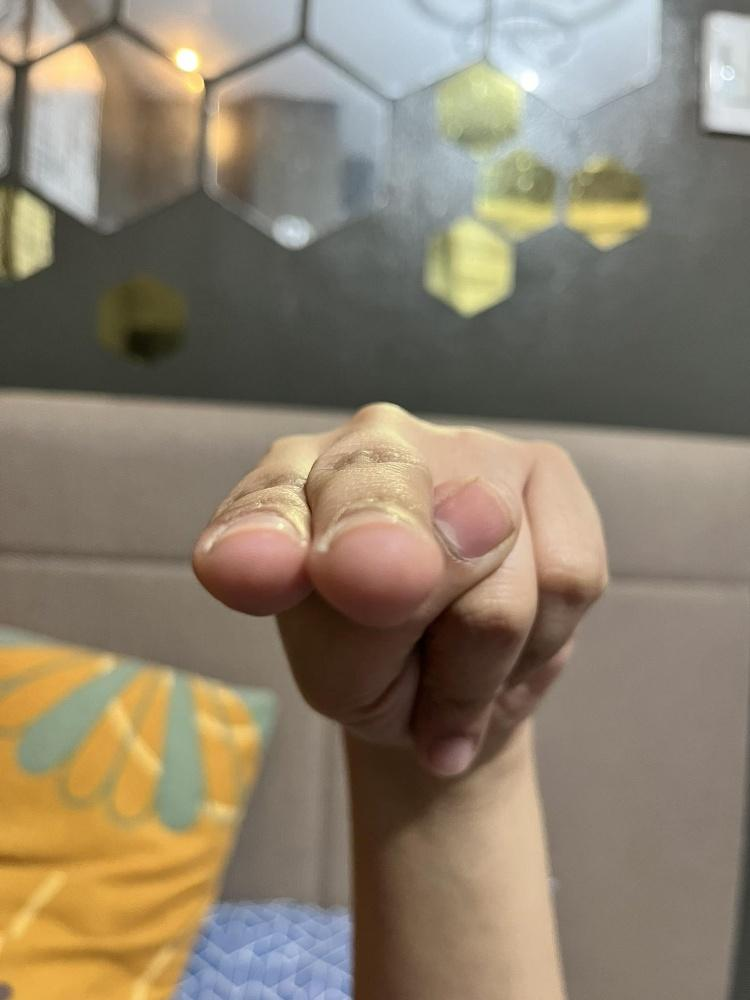n: (191, 400, 608, 778)
